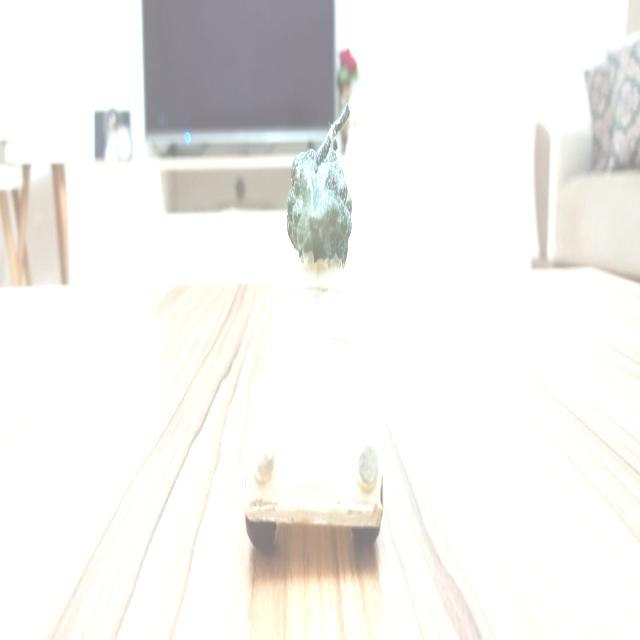car: (251, 273, 385, 553)
